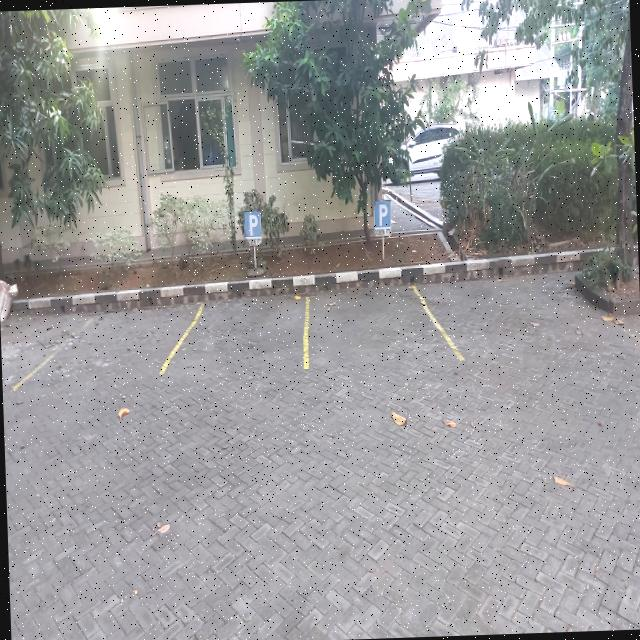empty: (414, 267, 640, 362), (15, 305, 201, 383), (306, 287, 462, 364), (163, 293, 308, 373)
